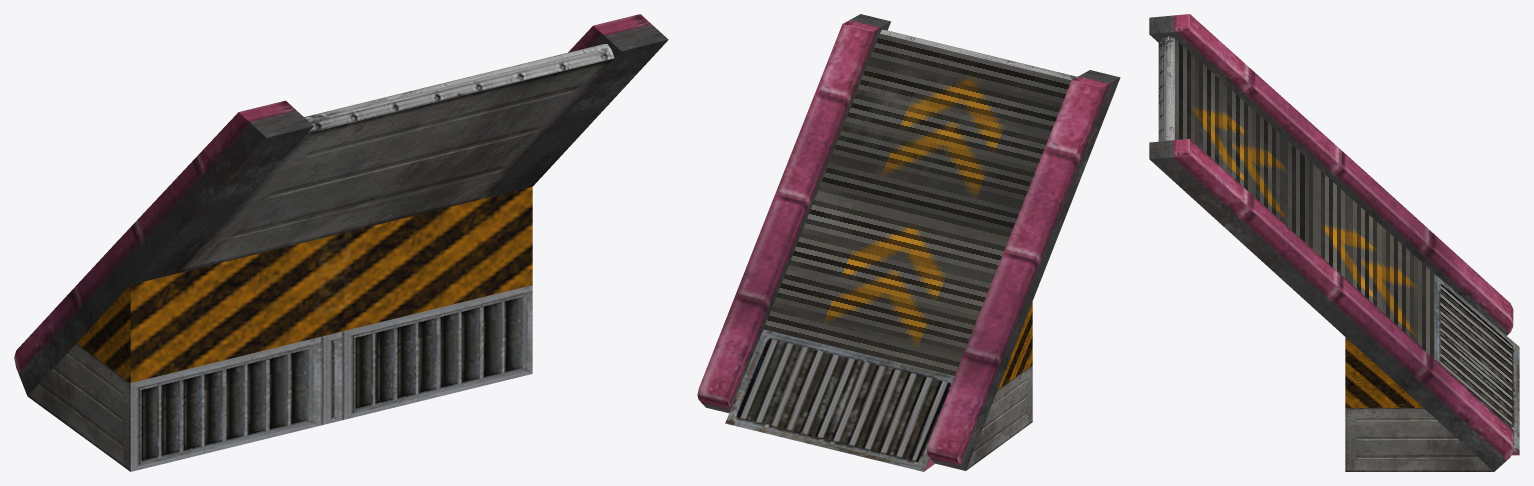
The model's file is dash_ramp.fbx.
3 renders of one model, left to right at view 1: azimuth 30°, elevation 25°; view 2: azimuth 150°, elevation 25°; view 3: azimuth 270°, elevation 25°, orthographic. The views are drawn at different scales.
Parts seen in each view (by area): view 1: Dash Ramp; view 2: Dash Ramp; view 3: Dash Ramp.
Part boxes in pixels (left/top/right/bottom): Dash Ramp: left=14, top=14, right=668, bottom=471; Dash Ramp: left=697, top=14, right=1120, bottom=471; Dash Ramp: left=1149, top=14, right=1519, bottom=471.
Bounding box in the file's own units: 2.25 × 2.35 × 2.49.
